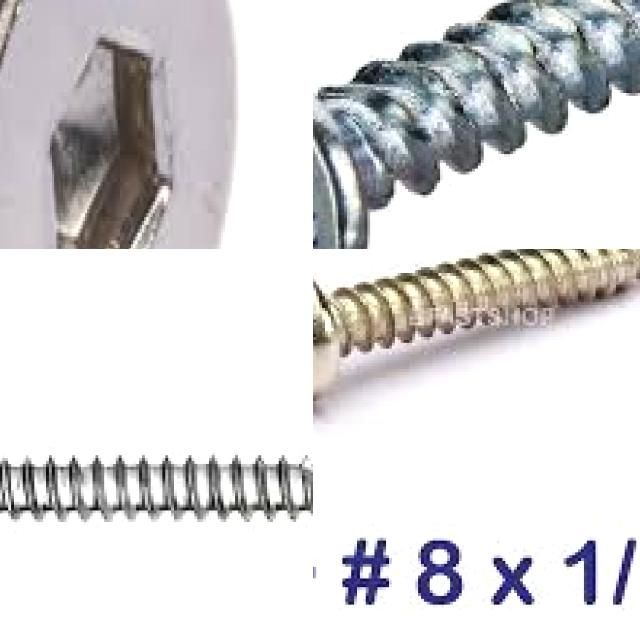Screw: (313, 0, 640, 249), (0, 0, 243, 249), (313, 249, 640, 402), (0, 449, 313, 522)
